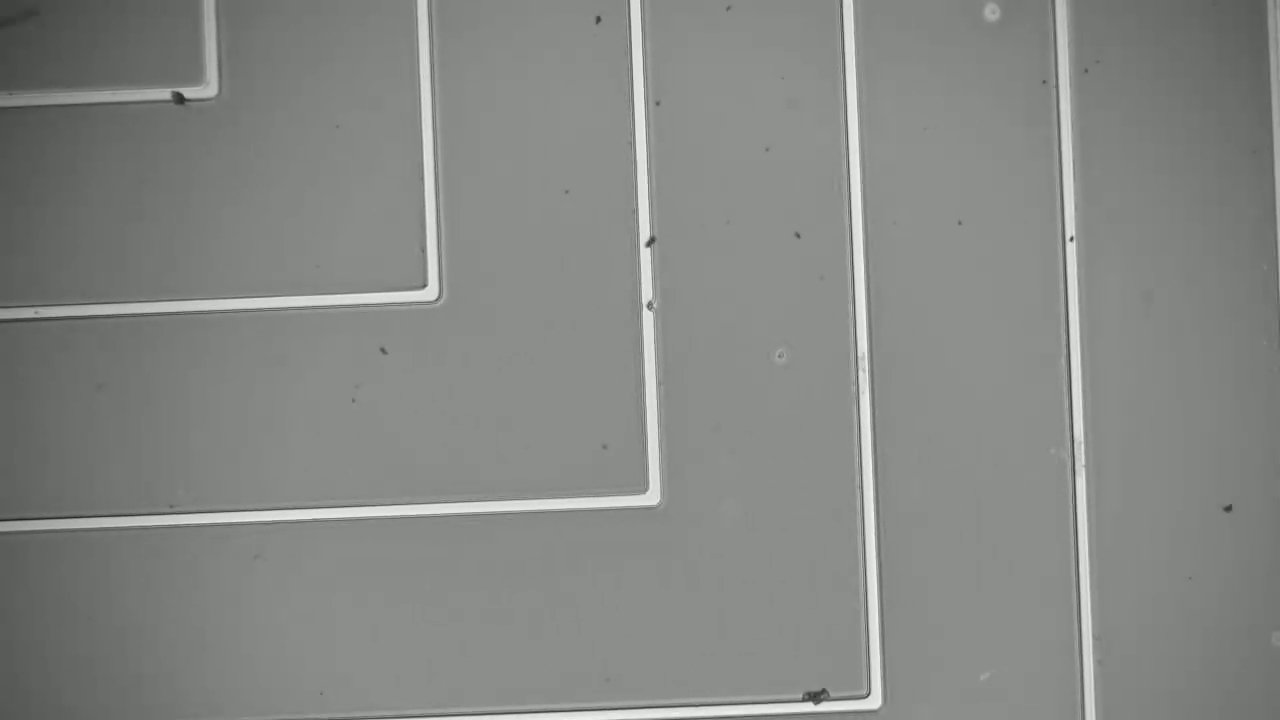stains_enbedded: (159, 71, 191, 114)
